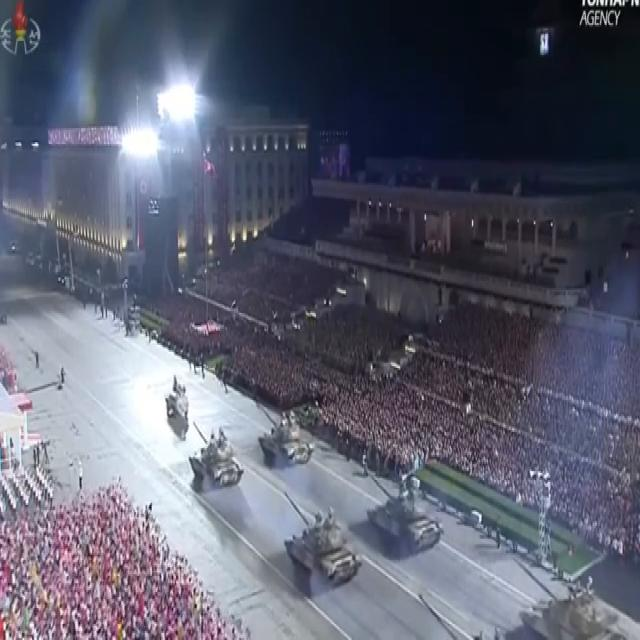north tank: (354, 438, 448, 580), (272, 486, 360, 605), (246, 383, 322, 487), (184, 417, 244, 517)
